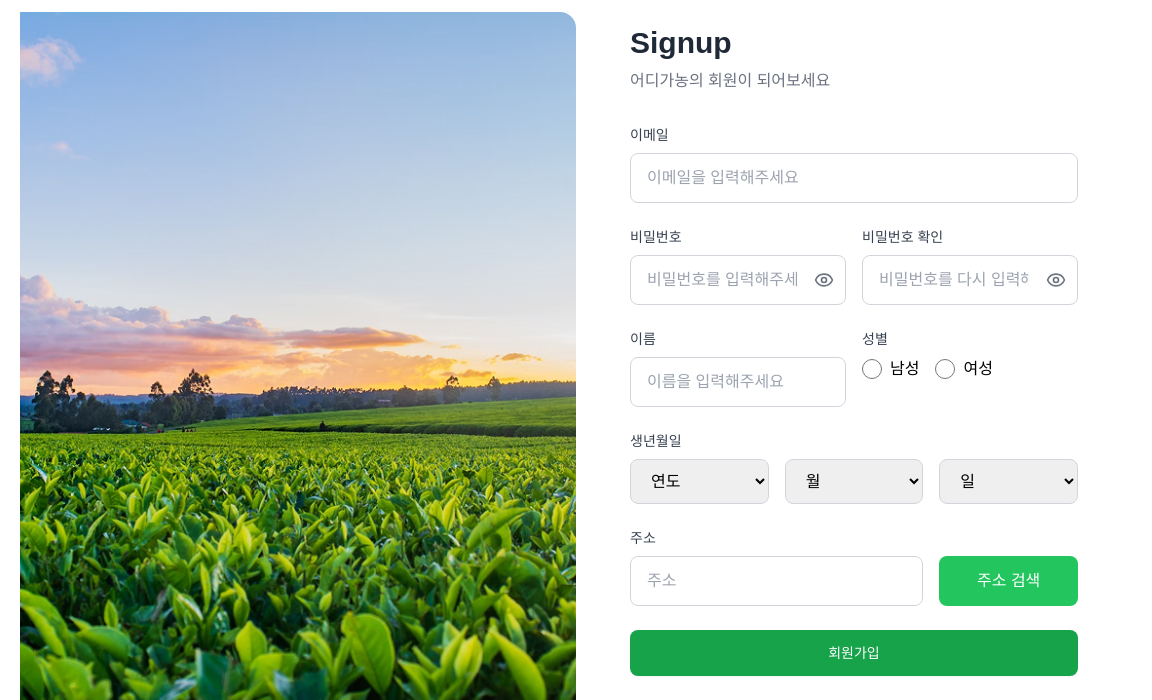
Test case: SignupPage › validates the form fields correctly
Note: 비어있는 폼 제출 시도
Click the button "회원가입".
click(854, 652)  # box [630,630,1078,676]
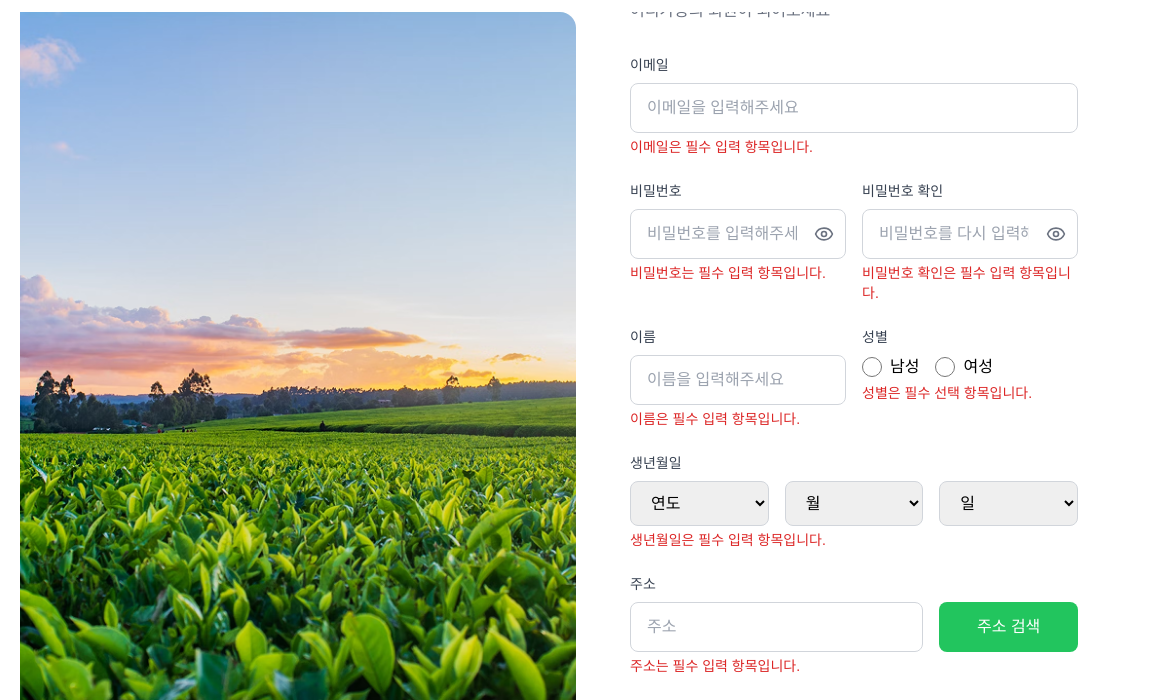
Expected: the text "이름은 필수 입력 항목입니다." is shown, [630,410,800,426]
Expected: the text "이메일은 필수 입력 항목입니다." is shown, [630,138,813,154]
Expected: the text "비밀번호는 필수 입력 항목입니다." is shown, [630,262,846,282]
